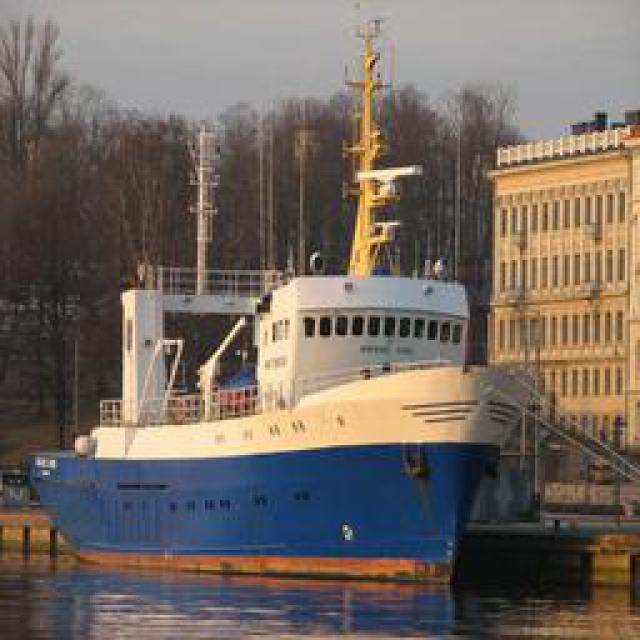Ship: (30, 106, 533, 571)
